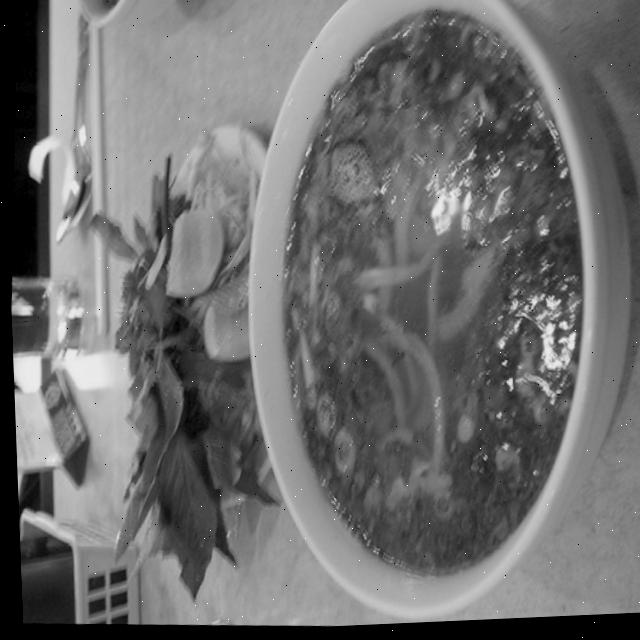面条主食: (77, 0, 640, 637)
